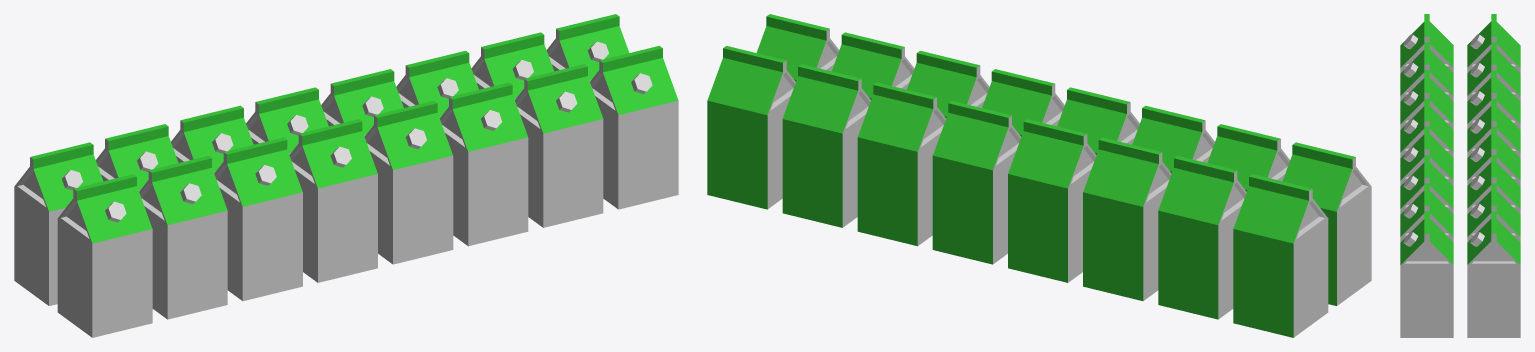
The model's file is MilkShelf02.fbx.
3 renders of one model, left to right at view 1: azimuth 30°, elevation 25°; view 2: azimuth 150°, elevation 25°; view 3: azimuth 270°, elevation 25°, orthographic. The views are drawn at different scales.
Parts seen in each view (by area): view 1: milk_low; view 2: milk_low; view 3: milk_low.
Part boxes in pixels (box(x1,y1,x2,y2)): milk_low: box(14, 14, 678, 337); milk_low: box(707, 14, 1371, 337); milk_low: box(1400, 14, 1520, 337).
Bounding box in the file's own units: 195 × 43 × 45.
